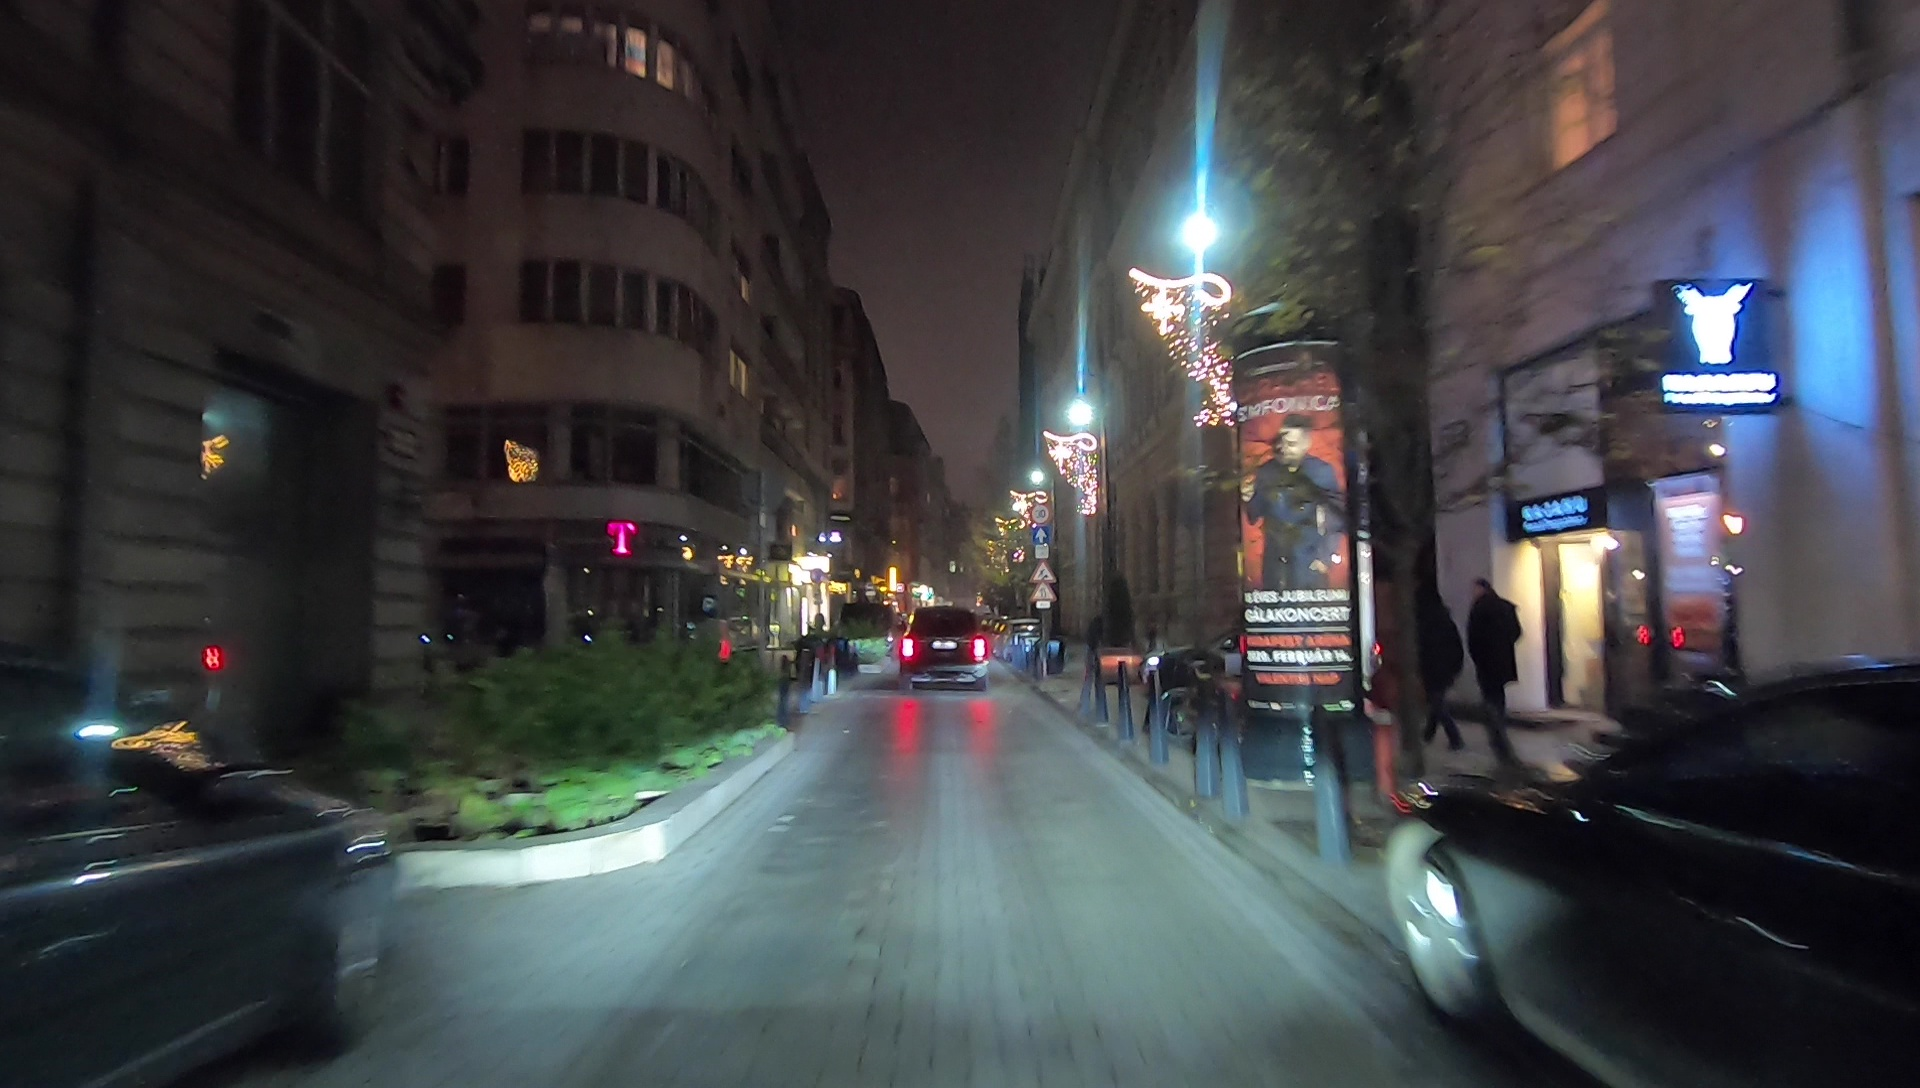person: (1467, 582, 1523, 749), (1417, 591, 1469, 754)
